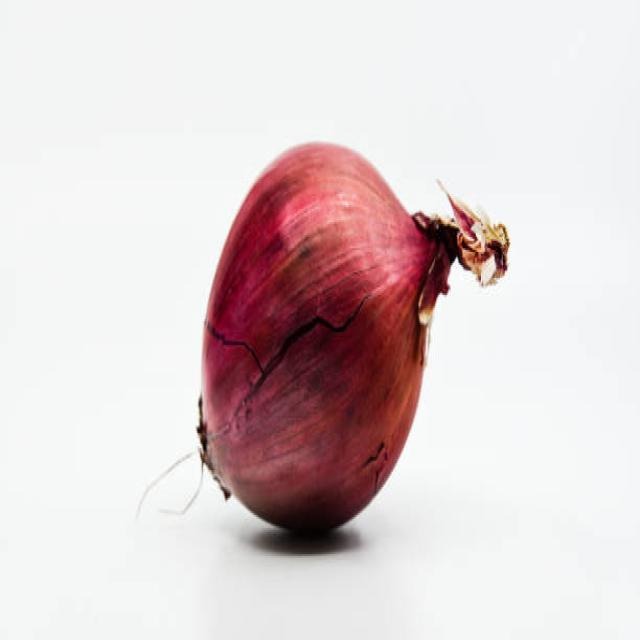onion: (194, 139, 438, 548)
